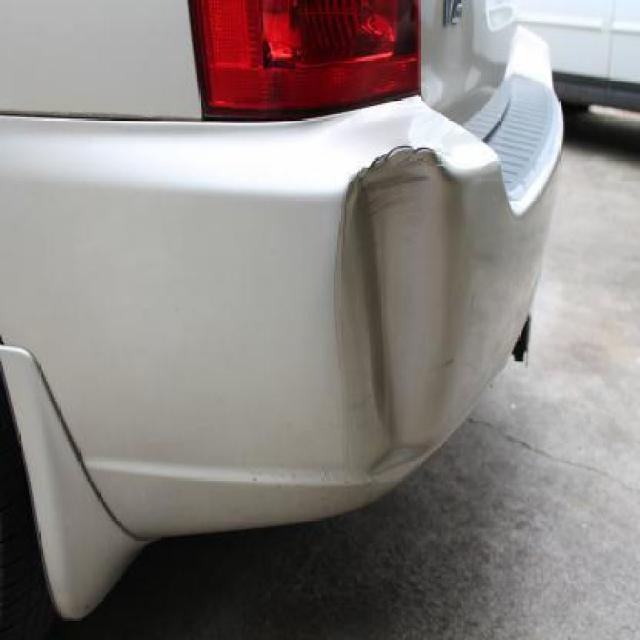dent: (329, 145, 474, 487)
